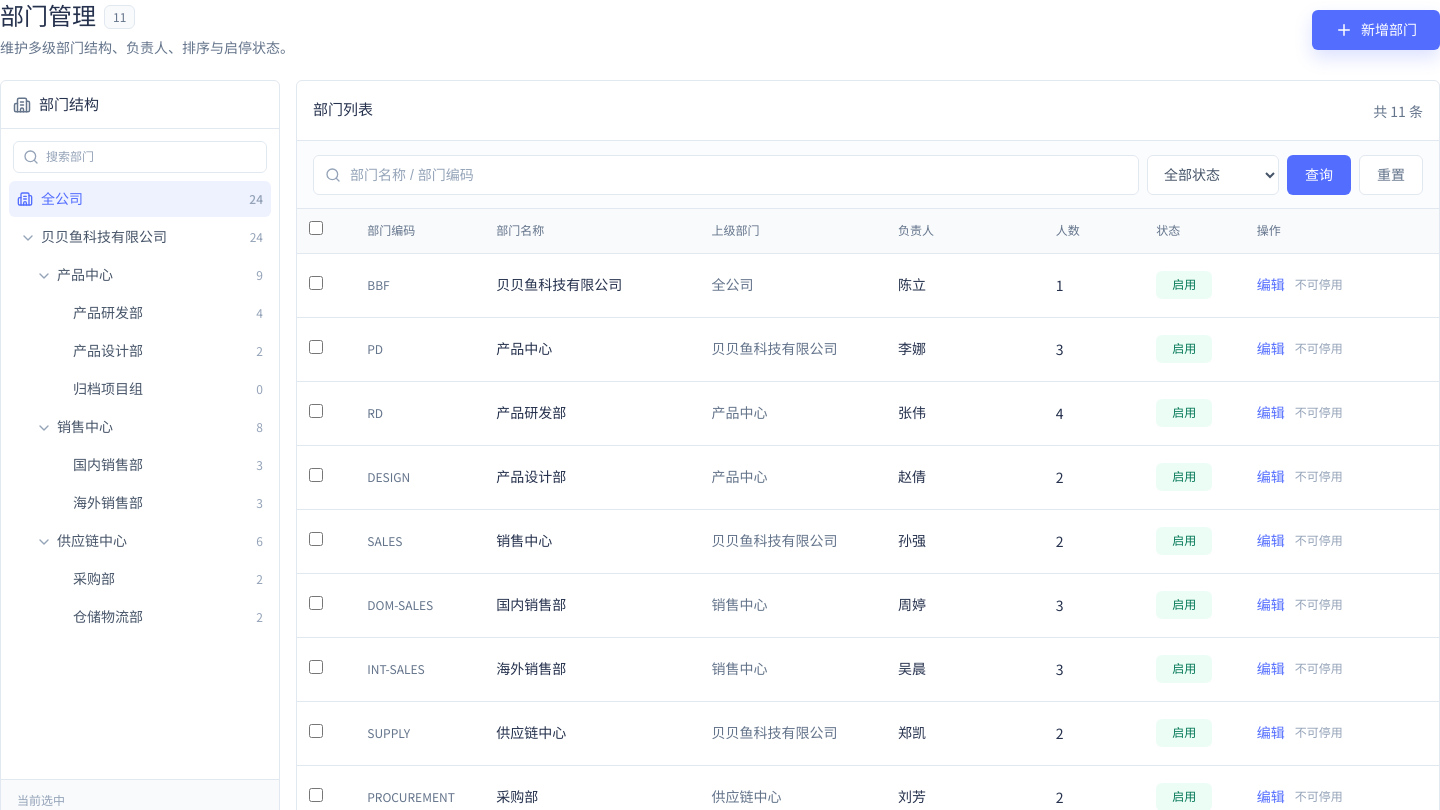
Test: DepartmentManagementView › prefills edit data and explains a blocked disable action
Expected: the button with test id "department-status-action-1" reads "不可停用", [1295,276,1343,294]
Click the button with test id "edit-department-2" at (1271, 349), box [1257,338,1285,360]
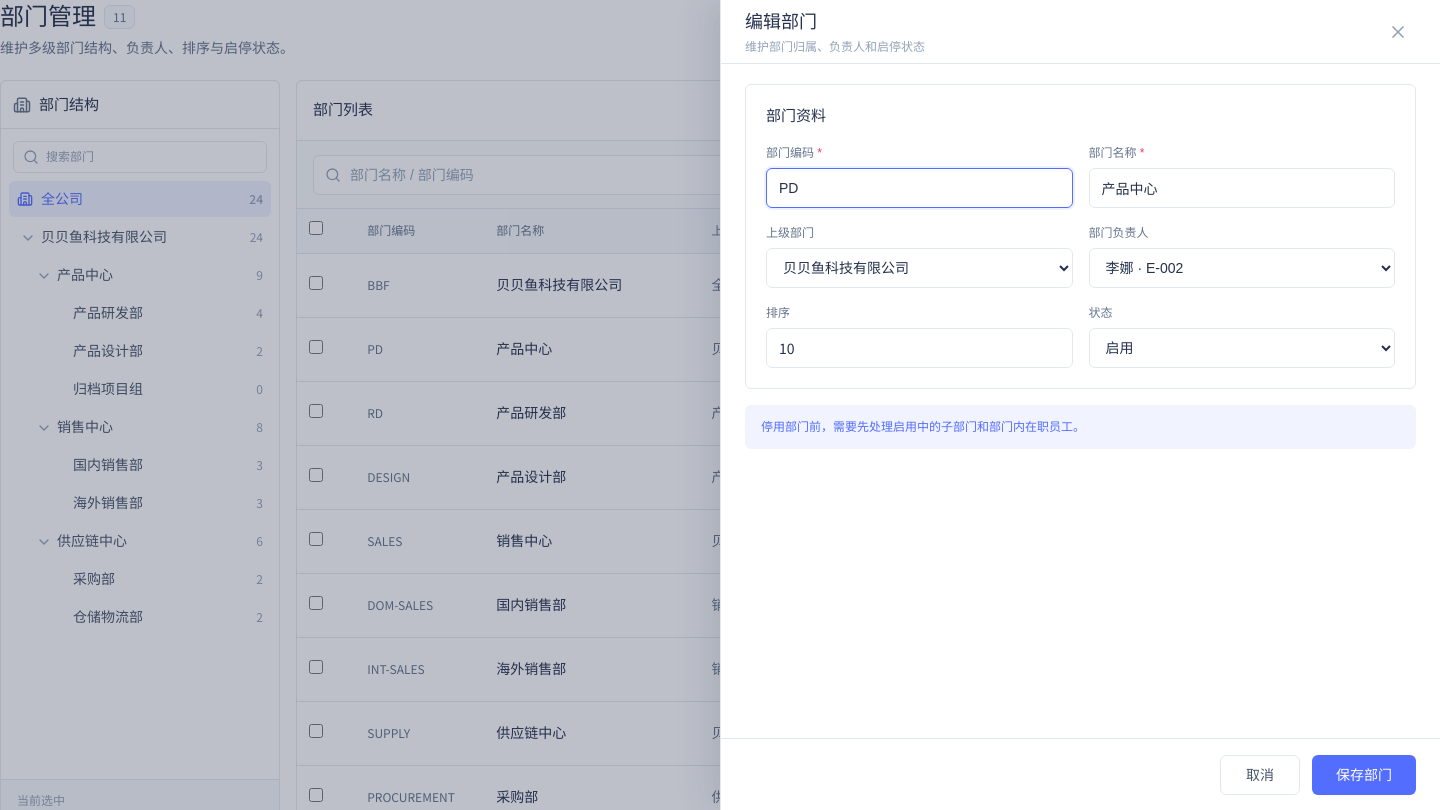
Expected: the field with test id "department-name" holds "产品中心", [1088,168,1395,208]
Expected: the field with test id "department-code" holds "PD", [766,168,1072,208]
